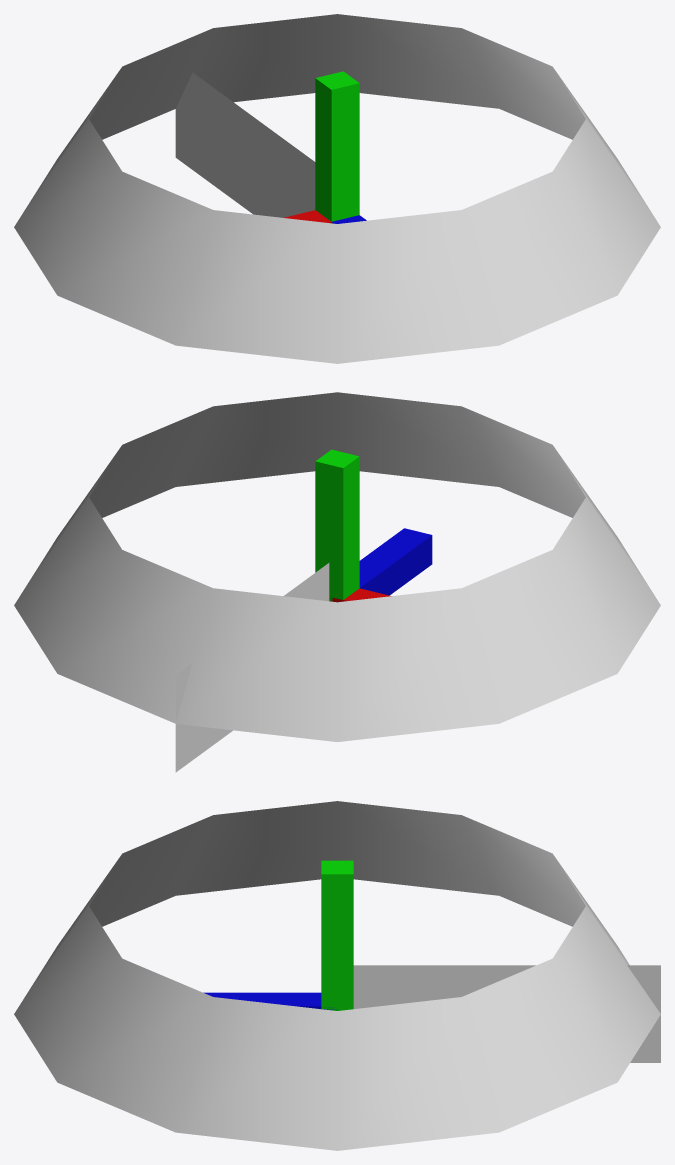
The model's file is cone_light_mesh.fbx.
3 views of the same model, one above another, from view 1: azimuth 30°, elevation 25°; view 2: azimuth 150°, elevation 25°; view 3: azimuth 270°, elevation 25° (orthographic).
Visible parts, largest first — view 1: cone, quad, axis, quad_mirror_x; view 2: cone, axis, quad; view 3: cone, axis, quad_mirror_x, quad.
Part boxes in pixels (left/top/right/bottom): cone: left=14, top=14, right=660, bottom=363; quad: left=175, top=72, right=315, bottom=217; axis: left=284, top=71, right=366, bottom=223; quad_mirror_x: left=175, top=73, right=314, bottom=217; cone: left=14, top=392, right=660, bottom=741; axis: left=315, top=449, right=432, bottom=602; quad: left=175, top=563, right=329, bottom=772; cone: left=14, top=801, right=660, bottom=1150; axis: left=203, top=860, right=353, bottom=1010; quad_mirror_x: left=353, top=965, right=660, bottom=1060; quad: left=353, top=965, right=660, bottom=1062.
Bounding box in the file's own units: 2 × 0.6667 × 2.
